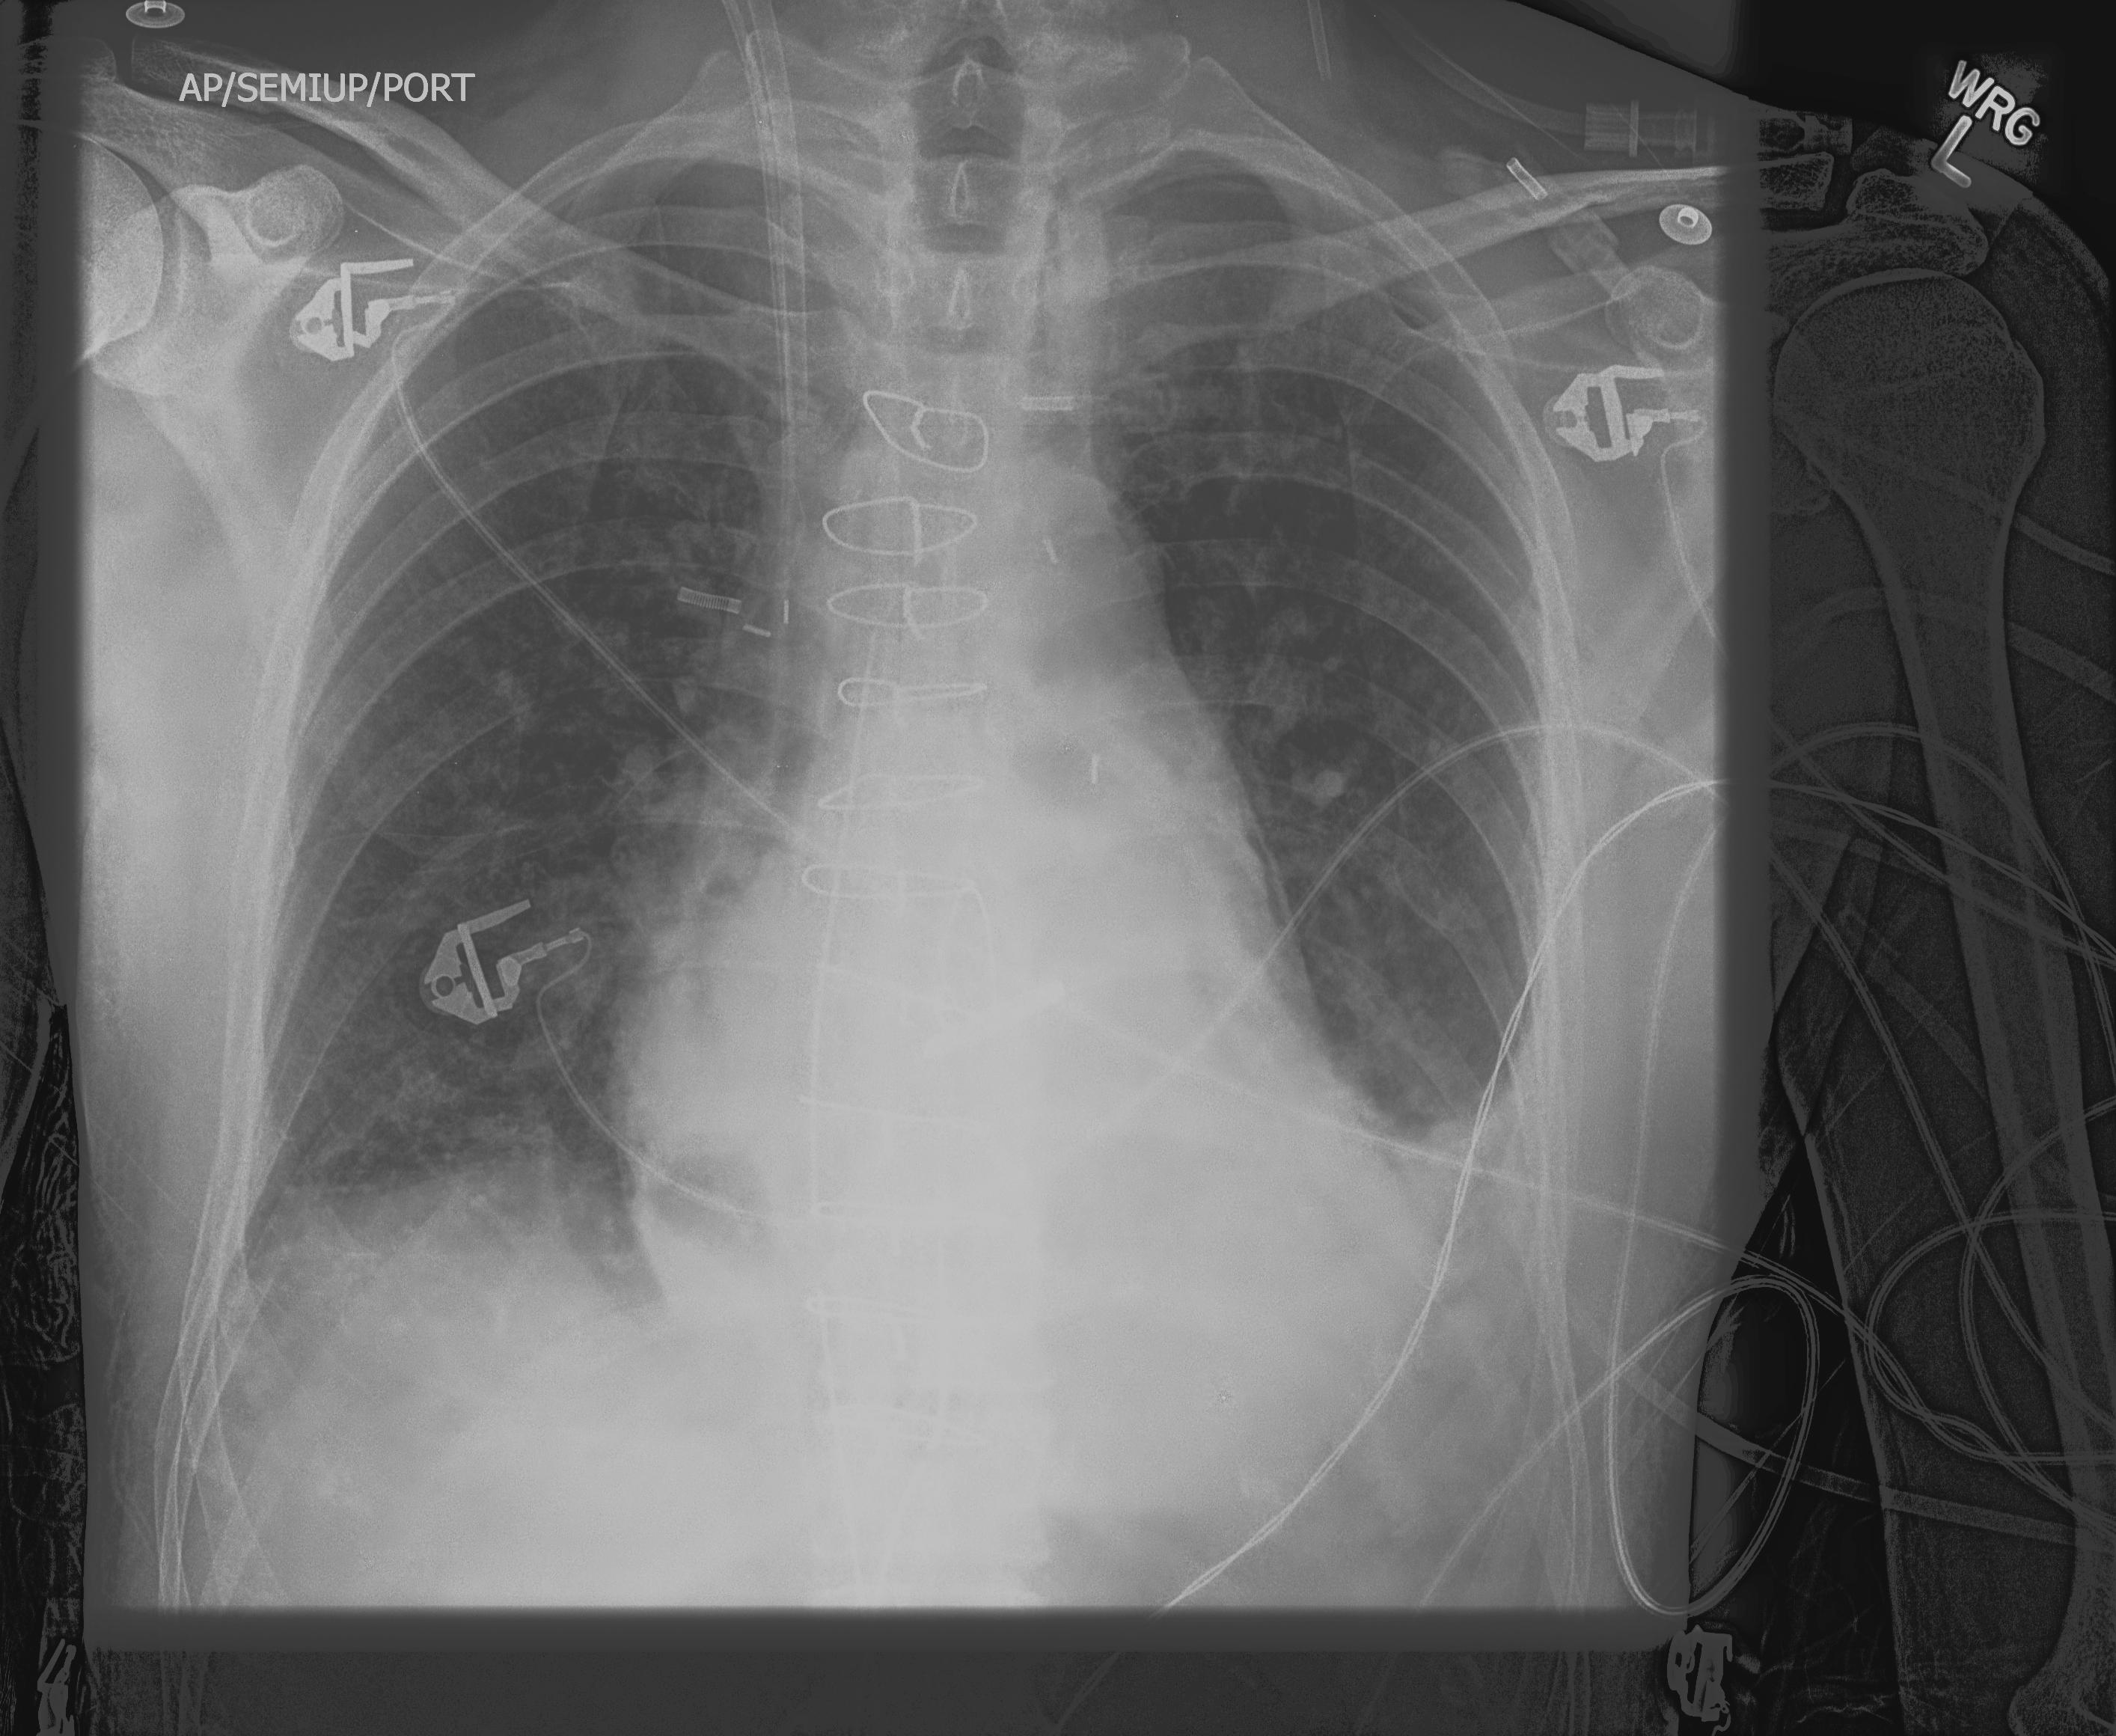Pleural Effusion: (1313, 1089, 1605, 1457)
